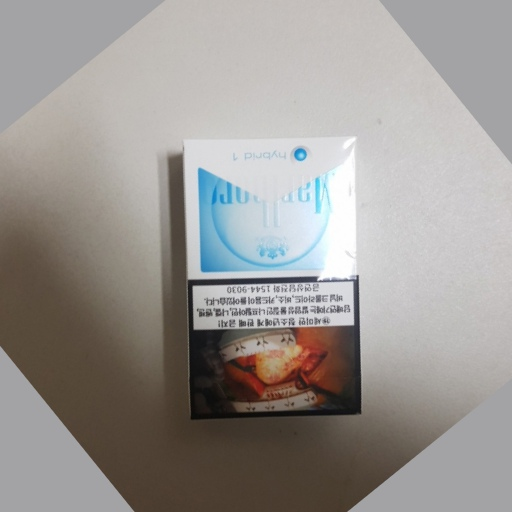Paper_0: (160, 134, 377, 429)
